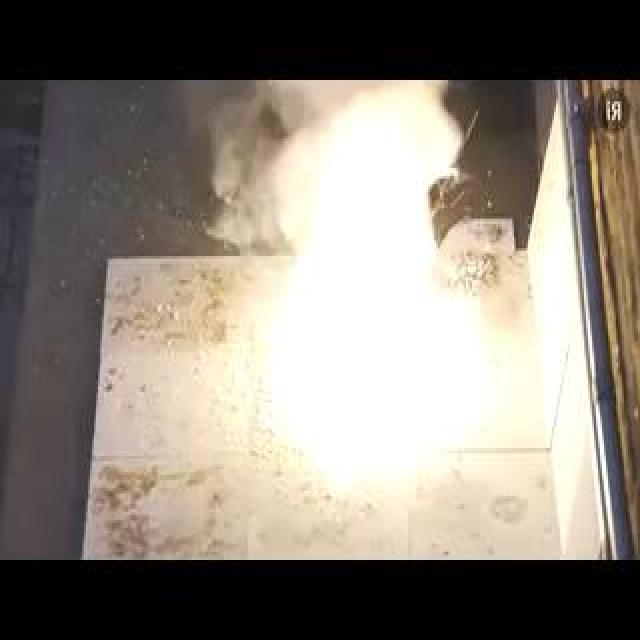Fire: (171, 168, 475, 488)
